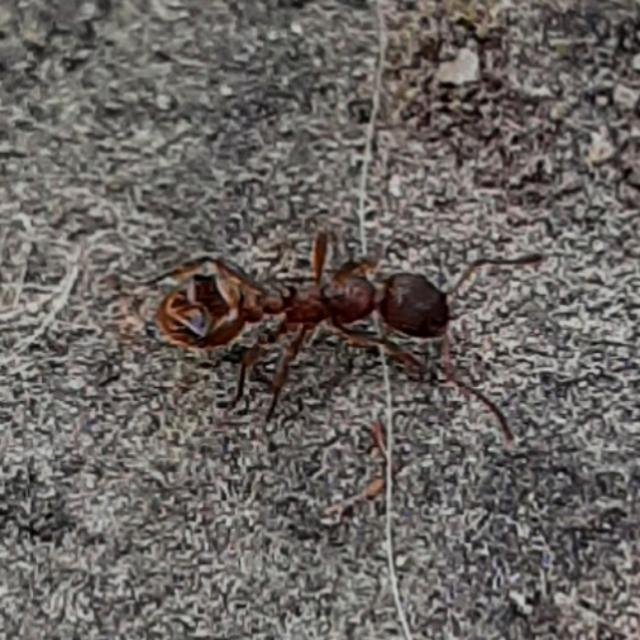Myrmica: (110, 205, 502, 408)
